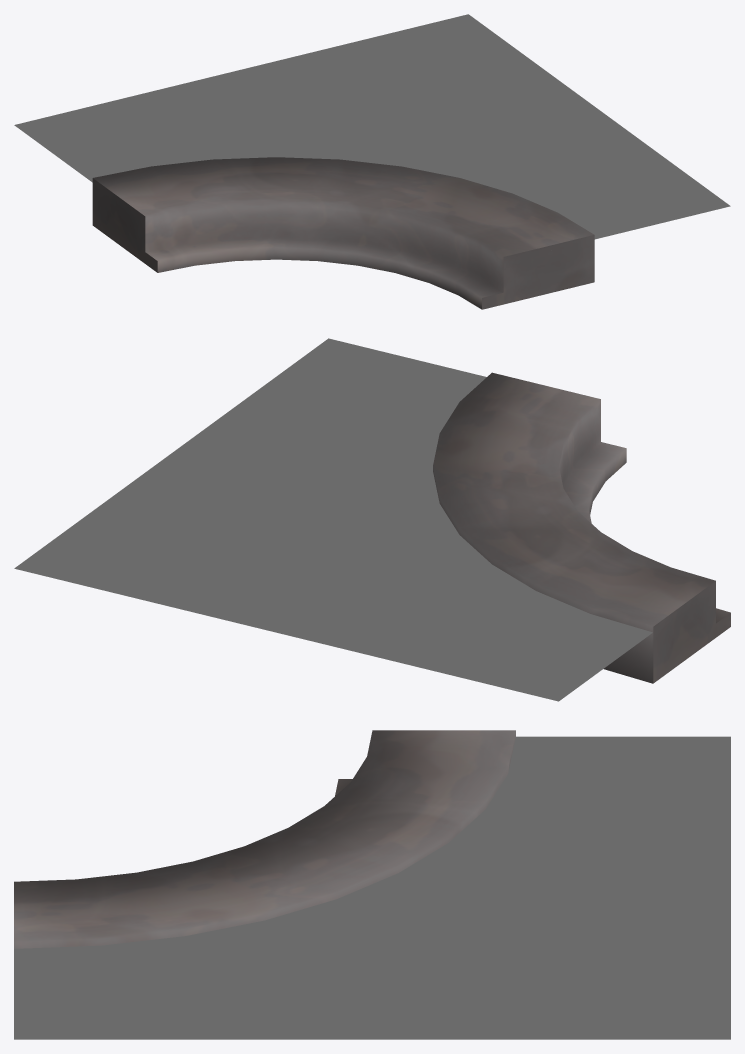
File: Curb_Concave_Radius_1m.fbx
3 renders of one model, top to bottom at view 1: azimuth 30°, elevation 25°; view 2: azimuth 150°, elevation 25°; view 3: azimuth 270°, elevation 25°, orthographic. The views are drawn at different scales.
Visible parts, largest first — view 1: Curb_Concave_Radius_1m; view 2: Curb_Concave_Radius_1m; view 3: Curb_Concave_Radius_1m.
Part boxes in pixels (x1,y1,x2,y2): Curb_Concave_Radius_1m: [14, 14, 730, 309]; Curb_Concave_Radius_1m: [14, 338, 730, 701]; Curb_Concave_Radius_1m: [14, 730, 730, 1039].
Size of what is drawn, in the model's own units: 2 by 0.2 by 2.
